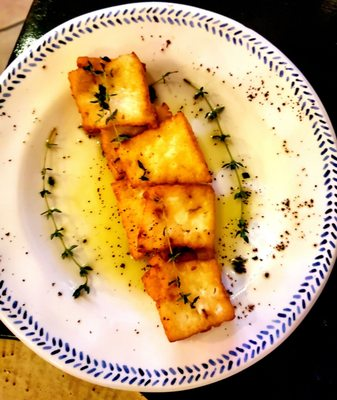sandwich: (4, 5, 336, 364)
